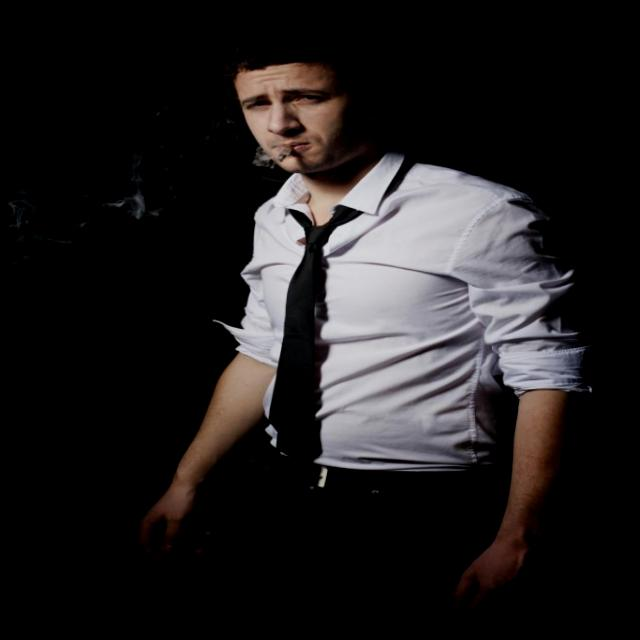cigarette: (265, 136, 310, 177)
